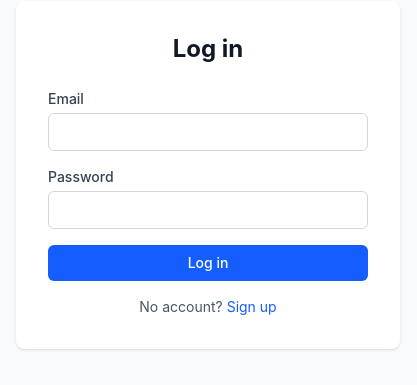
Test case: LoginPage › shows the server's message for wrong credentials and stays on the page
The width and height of the screenshot is (417, 385).
Type "demo@example.com" into the field labelled "Email" at (208, 132), box [48,113,368,151]
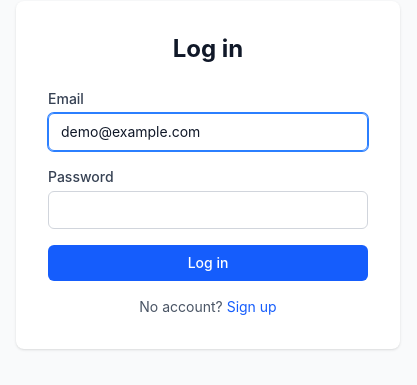
Type "wrong-password" into the password field labelled "Password" at (208, 210), box [48,191,368,229]
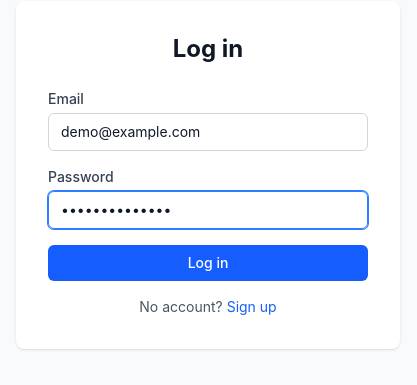
Click the button "Log in" at (208, 263), box [48,245,368,281]
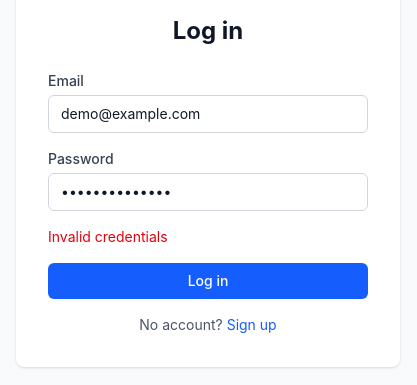
Check: the heading "Log in" is shown, box [173,16,243,45]
Check: the text "Invalid credentials" is shown, box [48,228,168,245]
